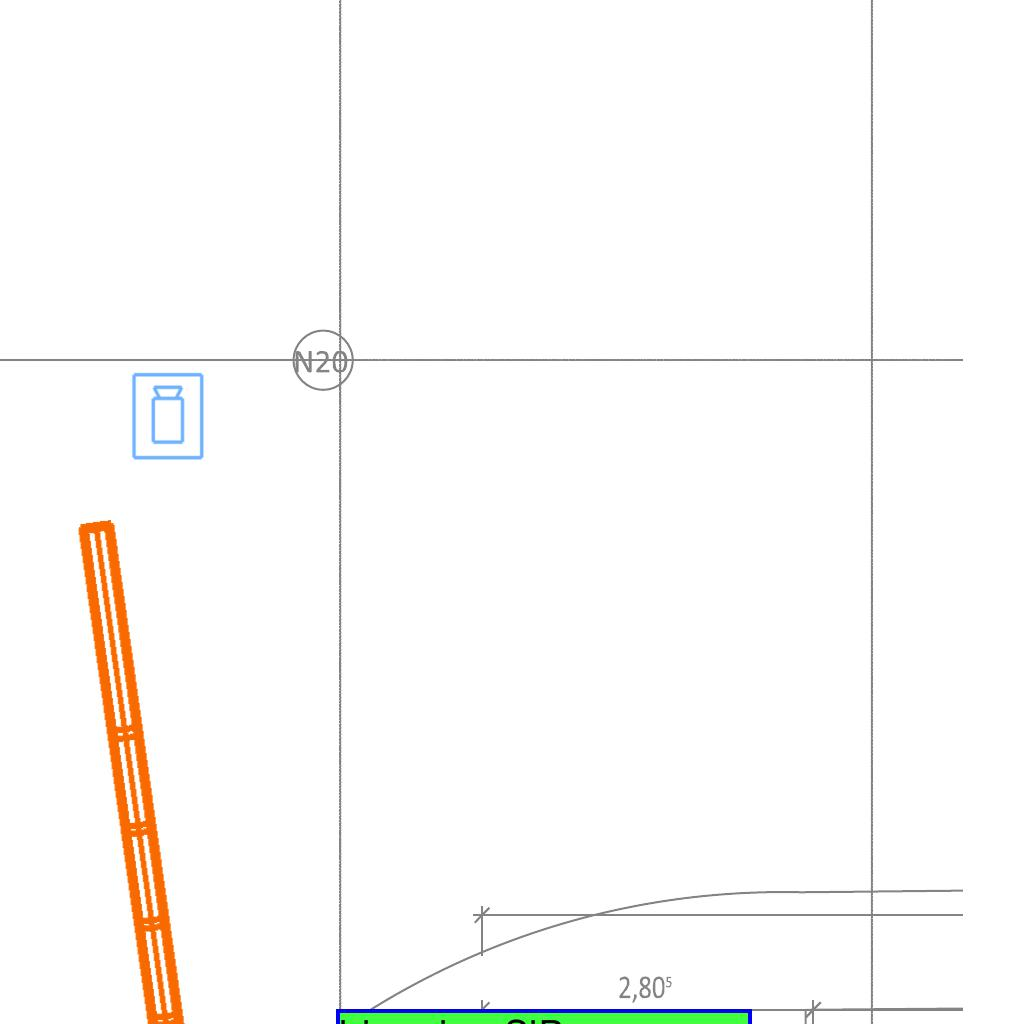Ambulanz_Pendelleuchte_LED: (63, 499, 283, 1024)
KFO_Kamera_mit_Festobjektiv: (130, 371, 207, 462)
